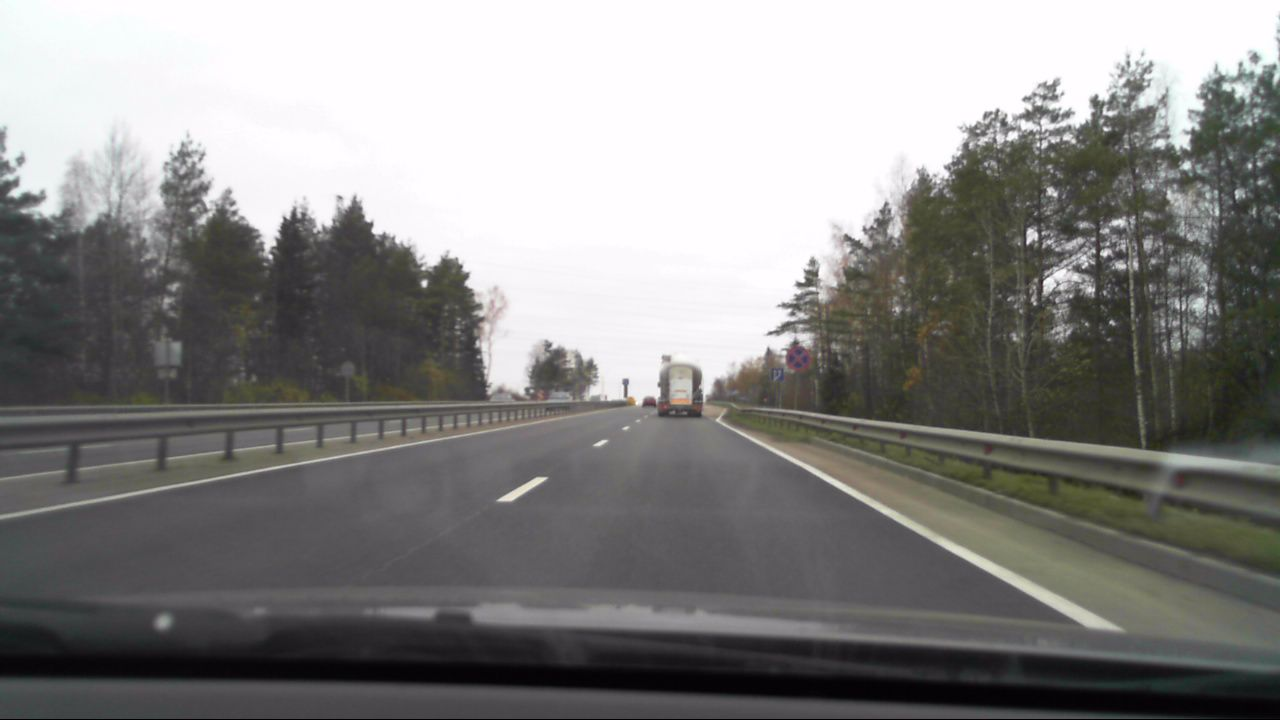No Parking: (785, 344, 812, 371)
